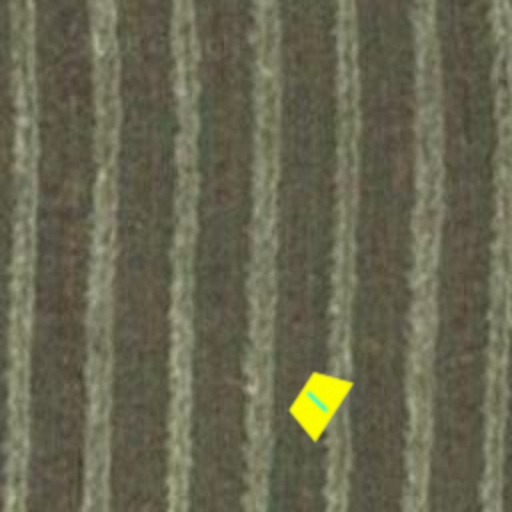trapezoid: (268, 352, 368, 452)
